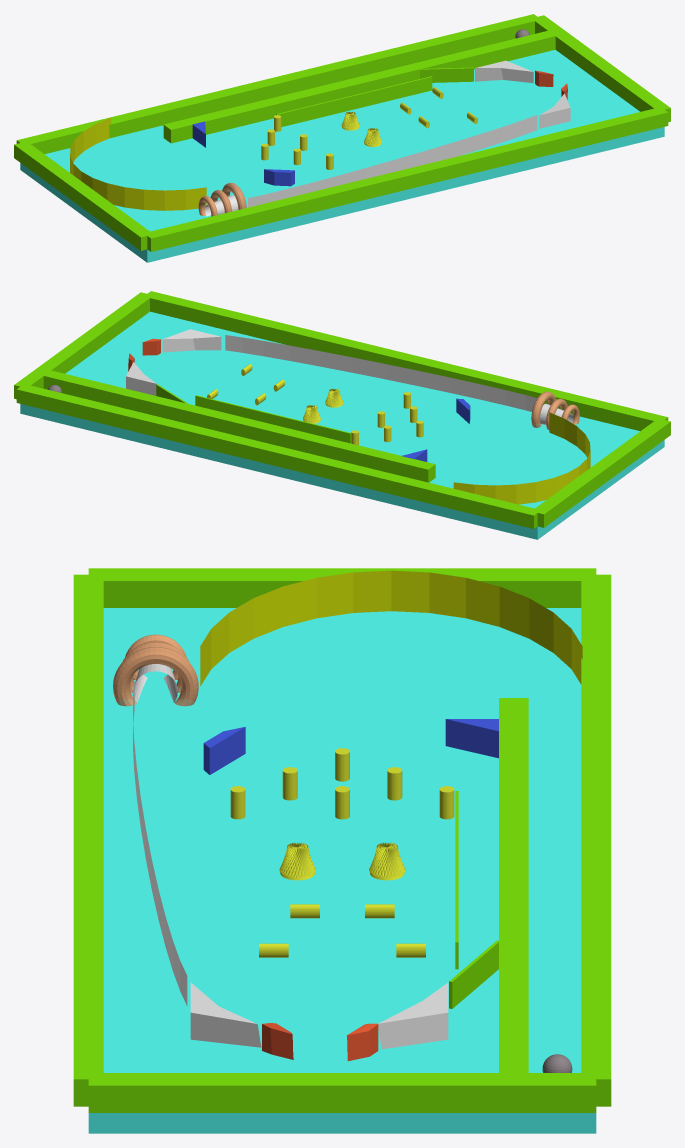
File: pinball_ver2.fbx
3 renders of one model, top to bottom at view 1: azimuth 30°, elevation 25°; view 2: azimuth 150°, elevation 25°; view 3: azimuth 270°, elevation 25°, orthographic. The views are drawn at different scales.
Visible parts, largest first — view 1: Bottom of the board, wall left, wall right, Cube.005, Cylinder.007, wall top, Turn, wall under, Cube.004, Cube.001, Cube.006, Cube (+1 smaller); view 2: Bottom of the board, wall right, wall left, Cube.005, Cylinder.007, wall top, wall under, Turn, Cube.004, Cube, Cube.001, Torus; view 3: Bottom of the board, wall under, wall right, wall left, Turn, wall top, Cube.005, Cube.001, Cube, Torus, Cylinder.007, Cube.007 (+6 smaller).
Part boxes in pixels (bbox=[...]): Bottom of the board: bbox=[20, 49, 664, 262]; wall left: bbox=[147, 108, 668, 251]; wall right: bbox=[16, 14, 540, 154]; Cube.005: bbox=[163, 30, 558, 143]; Cylinder.007: bbox=[248, 115, 537, 207]; wall top: bbox=[14, 143, 153, 250]; Turn: bbox=[70, 117, 206, 210]; wall under: bbox=[535, 15, 670, 122]; Cube.004: bbox=[276, 76, 432, 126]; Cube.001: bbox=[475, 60, 533, 83]; Cube.006: bbox=[420, 67, 473, 82]; Cube: bbox=[539, 93, 570, 128]; Bottom of the board: bbox=[20, 311, 664, 539]; wall right: bbox=[16, 384, 540, 528]; wall left: bbox=[147, 291, 668, 431]; Cube.005: bbox=[41, 369, 435, 482]; Cylinder.007: bbox=[225, 335, 537, 411]; wall top: bbox=[535, 418, 670, 527]; wall under: bbox=[14, 292, 153, 399]; Turn: bbox=[453, 412, 590, 504]; Cube.004: bbox=[195, 395, 351, 443]; Cube: bbox=[162, 329, 221, 352]; Cube.001: bbox=[126, 362, 156, 395]; Torus: bbox=[531, 391, 555, 427]; Bottom of the board: bbox=[88, 608, 596, 1133]; wall under: bbox=[88, 1073, 596, 1112]; wall right: bbox=[581, 574, 611, 1106]; wall left: bbox=[73, 574, 103, 1106]; Turn: bbox=[200, 570, 582, 685]; wall top: bbox=[88, 568, 596, 607]; Cube.005: bbox=[499, 698, 528, 1076]; Cube.001: bbox=[378, 983, 448, 1049]; Cube: bbox=[190, 982, 261, 1047]; Torus: bbox=[113, 647, 198, 706]; Cylinder.007: bbox=[133, 681, 187, 1005]; Cube.007: bbox=[445, 719, 498, 758].
Bounding box in the file's own units: 8200 × 608 × 3600.
